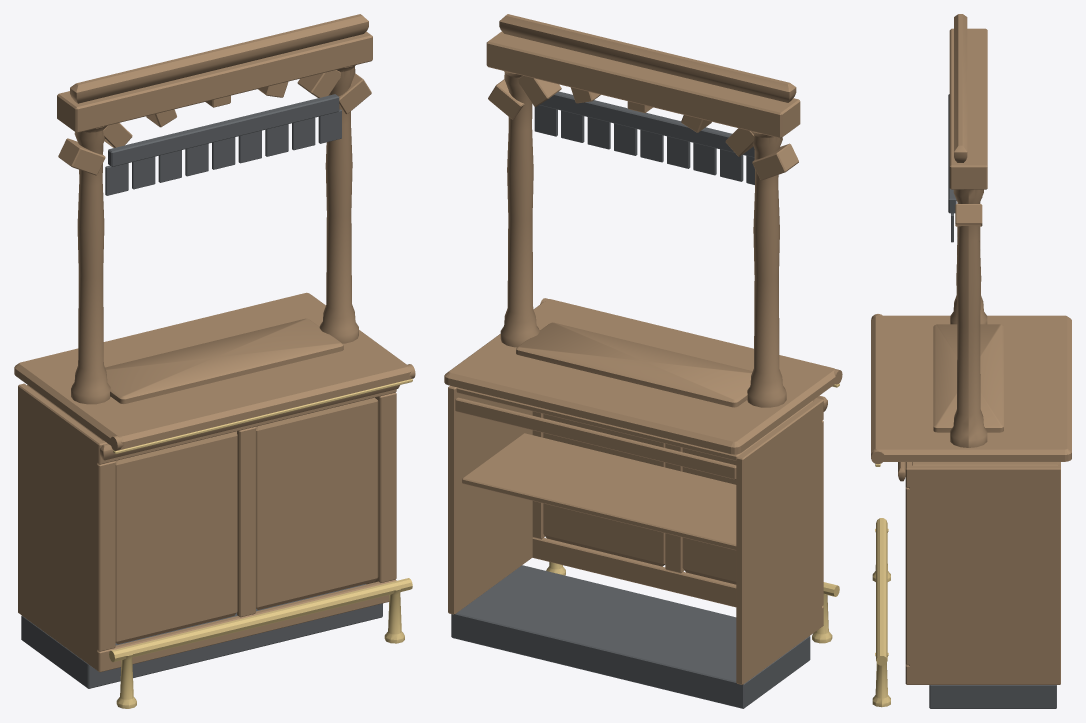
File: bar-pub-and-brewery-taproom-bar-service-hatch-cd7f38d9__18316.glb
3 views of the same model, side by side, from view 1: azimuth 30°, elevation 25°; view 2: azimuth 150°, elevation 25°; view 3: azimuth 270°, elevation 25° (orthographic). The views are drawn at different scales.
Parts seen in each view (by area): view 1: bar-service-hatch; view 2: bar-service-hatch; view 3: bar-service-hatch.
Part boxes in pixels (left/top/right/bottom): bar-service-hatch: left=14, top=14, right=415, bottom=708; bar-service-hatch: left=444, top=14, right=842, bottom=708; bar-service-hatch: left=871, top=14, right=1071, bottom=708.
Bounding box in the file's own units: 1.21 × 2.28 × 0.7399.
